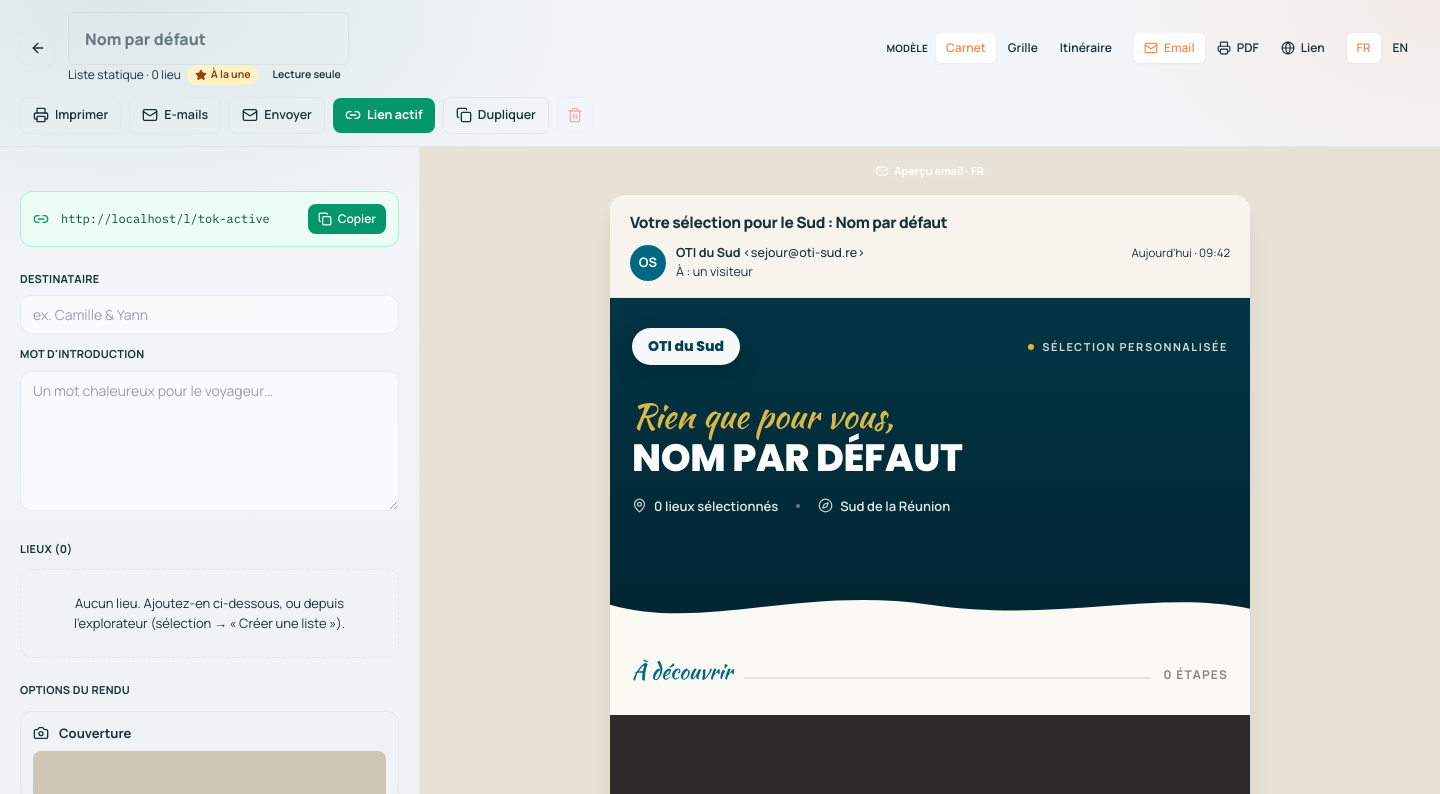
ListComposeView — copier le lien revérifie AU CLIC, jamais depuis le cache (revue finale) › lien actif et NON expiré en cache : un rejet d’ensureListShareLink AU CLIC « Copier » n’écrit rien, ne réactive jamais via share_list, et affiche le message dan
The image size is (1440, 794).
Click the button "Lien actif" at (384, 115), box [333,98,435,133]
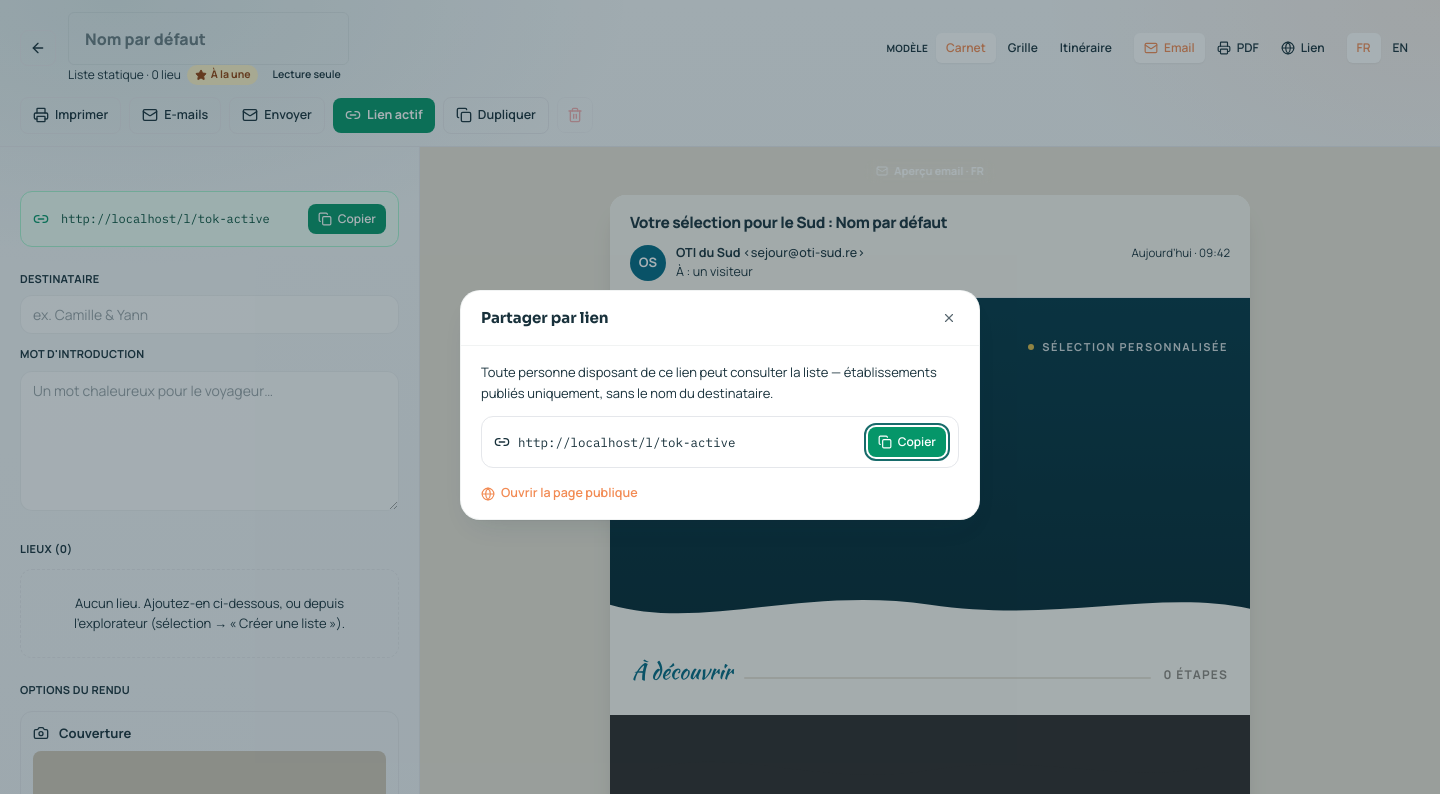
Click the button "Copier" at (907, 442), box [868,427,946,457]
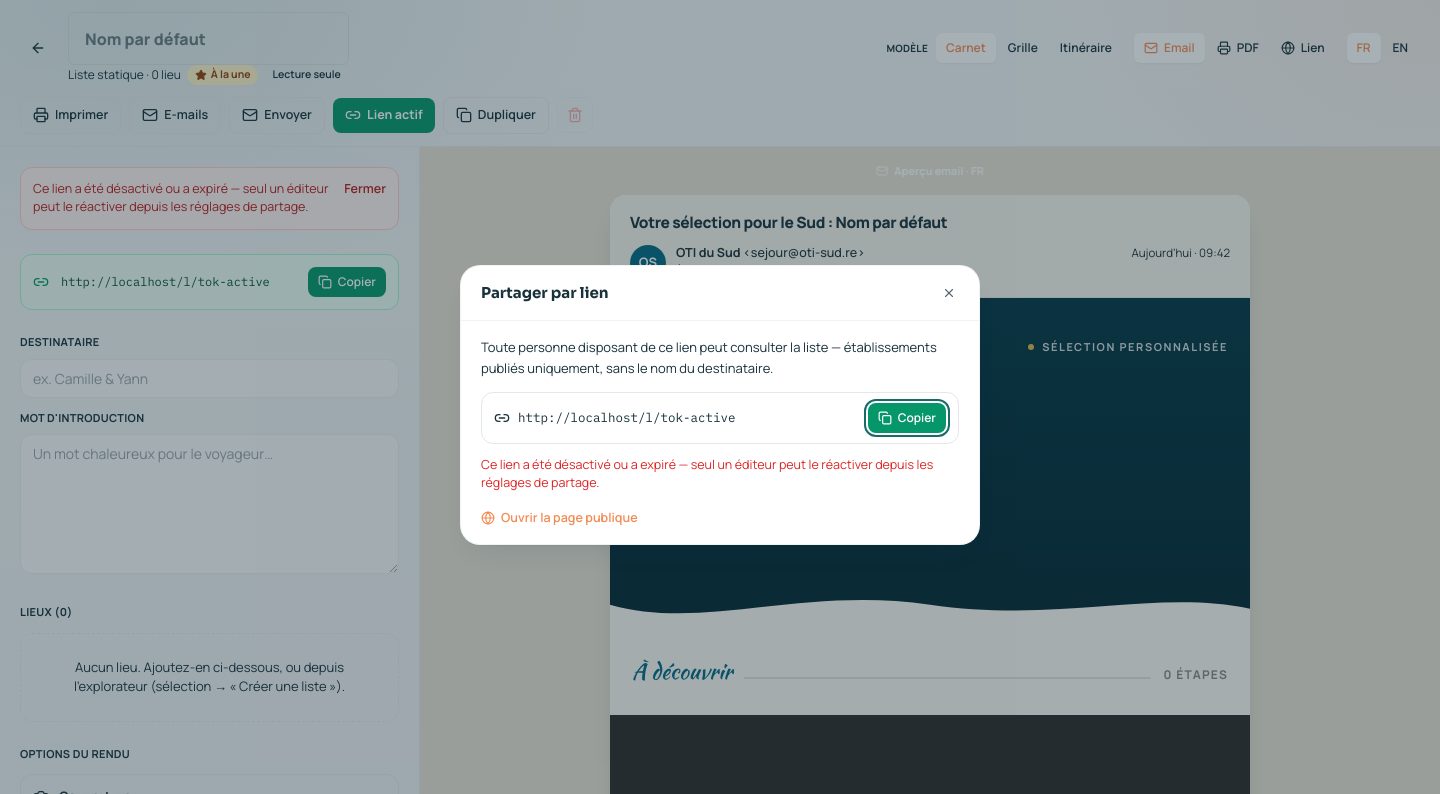
expect the text "seul un éditeur peut le réactiver" is shown: met, box [481,456,933,491]
